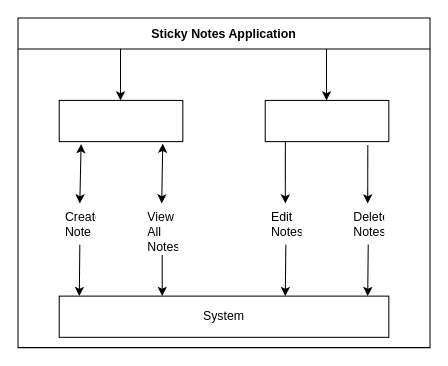
The diagram is 448 pixels wide and 366 high, and some of its shapes have lost their labels. Here are the shapes that lost their labels. From the top down, the box of each, then its label:
(58, 99, 183, 142): User
(264, 99, 389, 142): Admin
